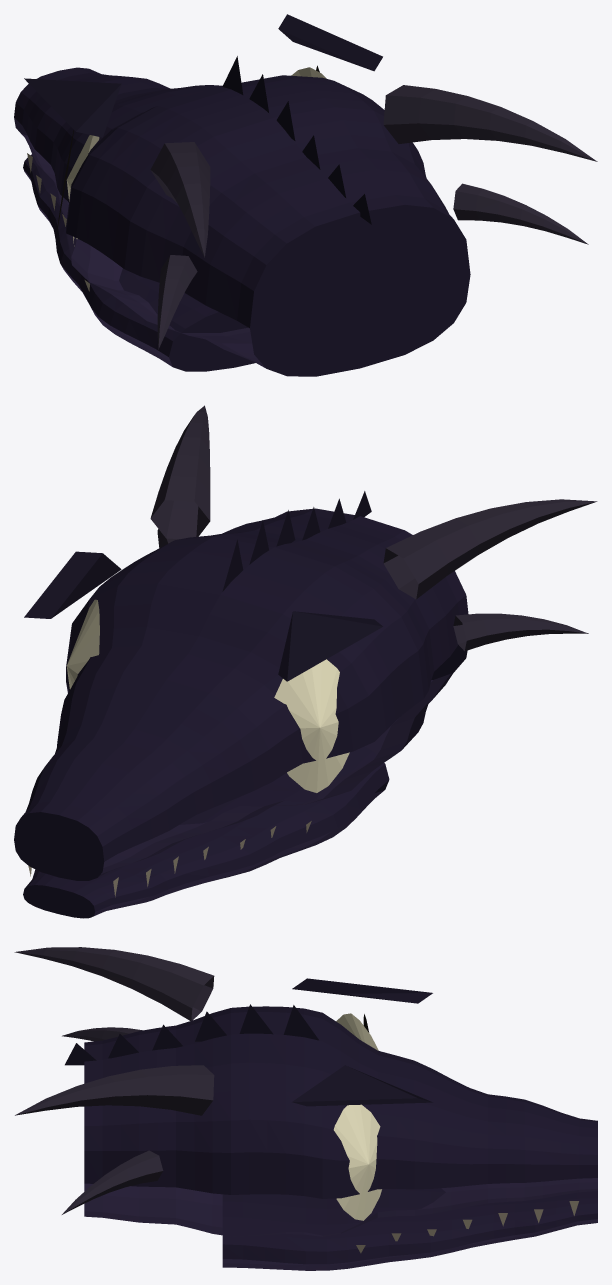
The model's file is sea_monster.obj.
The picture shows the model from 3 angles, top to bottom: view 1: azimuth 30°, elevation 25°; view 2: azimuth 150°, elevation 25°; view 3: azimuth 270°, elevation 25°; orthographic projection. The views are drawn at different scales.
Parts seen in each view (by area): view 1: skull_top, skull_caps, horn_right, jaw_top, skull_under, horn_left, brow_left, horn_right_small, jaw_caps, brow_right, ridge, horn_left_small (+2 smaller); view 2: skull_top, jaw_top, horn_left, skull_under, eye_left, skull_caps, horn_right, brow_left, brow_right, horn_left_small, ridge, jaw_under (+2 smaller); view 3: skull_top, jaw_top, skull_under, horn_left, horn_right, eye_right, brow_right, ridge, jaw_under, horn_right_small, brow_left, horn_left_small (+2 smaller).
Boxes of the visible parts, x1,y1,x2,y2 form: skull_top: (14,67,452,328); skull_caps: (14,117,470,376); horn_right: (383,85,597,161); jaw_top: (23,154,218,356); skull_under: (21,133,265,368); horn_left: (150,142,210,257); brow_left: (24,78,121,137); horn_right_small: (453,183,588,244); jaw_caps: (23,168,255,371); brow_right: (278,14,382,71); ridge: (222,56,371,224); horn_left_small: (157,255,197,349); skull_top: (21,508,468,861); jaw_top: (25,746,389,911); horn_left: (383,499,597,599); skull_under: (66,668,456,877); eye_left: (274,659,349,792); skull_caps: (14,645,467,880); horn_right: (150,405,210,538); brow_left: (278,611,382,681); brow_right: (24,551,121,618); horn_left_small: (453,613,588,651); ridge: (222,491,371,591); jaw_under: (94,790,384,915); skull_top: (84,1006,597,1198); jaw_top: (222,1188,597,1264); skull_under: (84,1178,597,1236); horn_left: (14,947,214,1020); horn_right: (15,1065,214,1115); eye_right: (333,1104,381,1220); brow_right: (292,1065,432,1106); ridge: (65,1004,318,1065); jaw_under: (222,1219,597,1270); horn_right_small: (62,1150,163,1214); brow_left: (292,978,432,1003); horn_left_small: (62,1027,142,1041).
Bounding box in the file's own units: 21.47 × 12.98 × 29.56.
